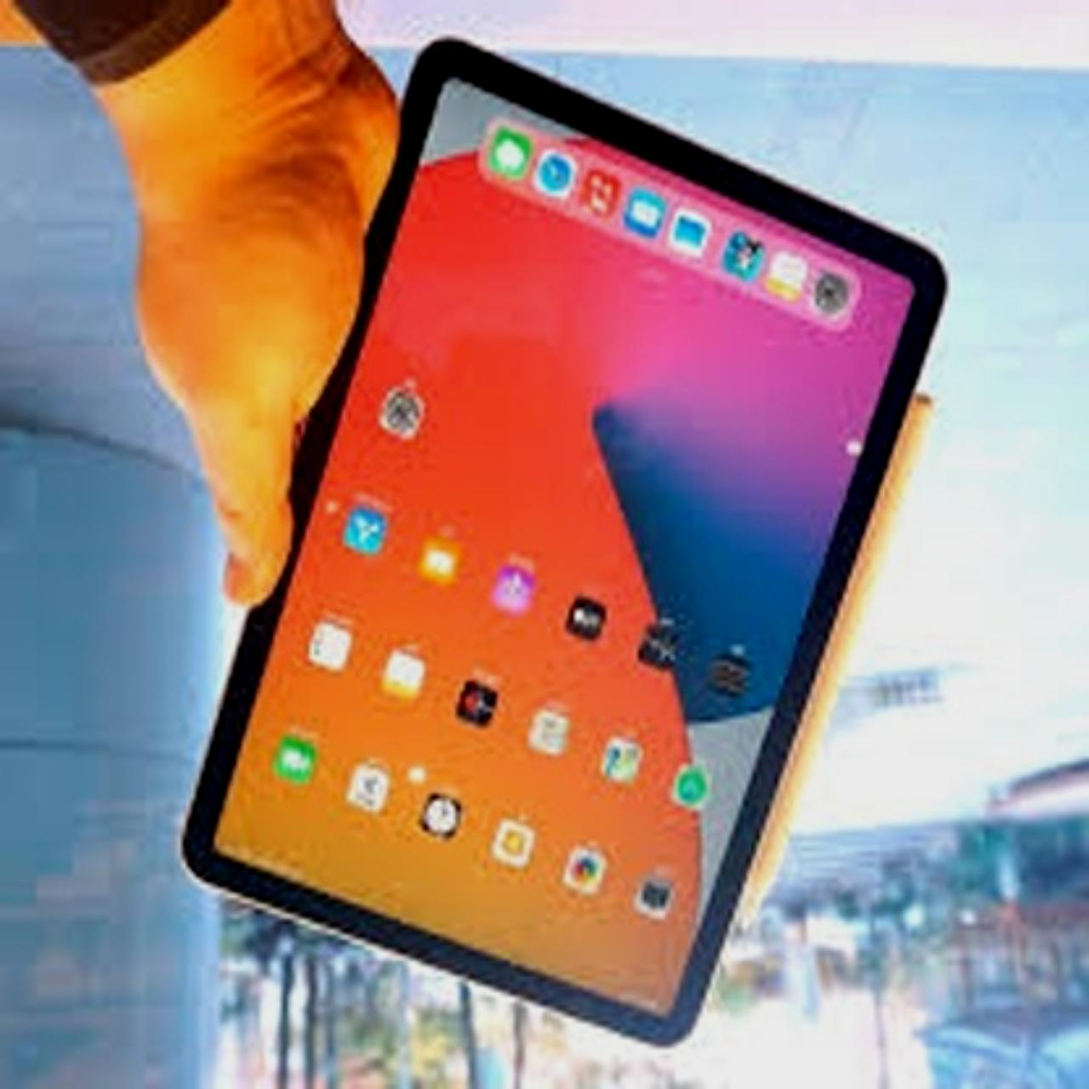Tablet_PC: (176, 34, 937, 1041)
